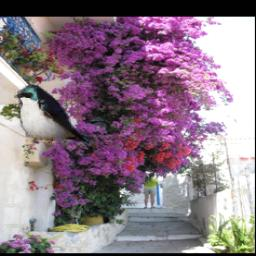Swallow: (15, 84, 92, 144)
